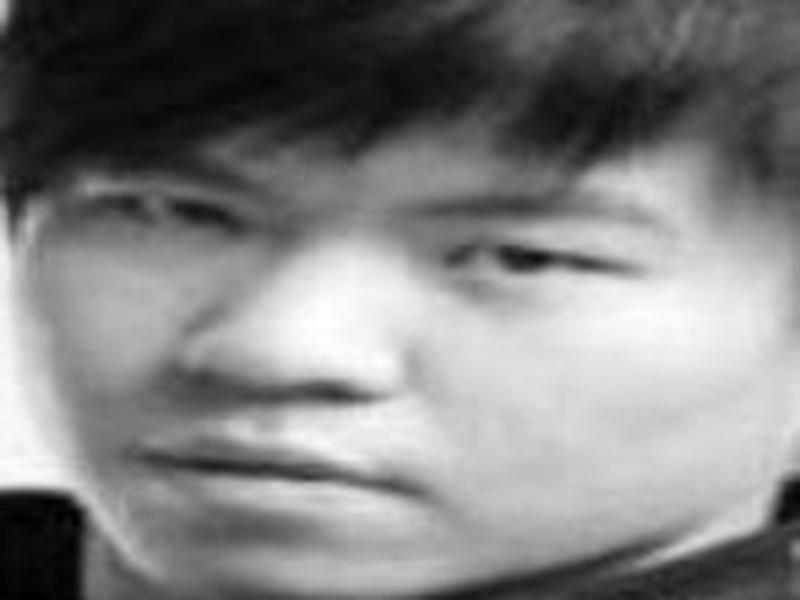without_mask: (23, 99, 738, 584)
